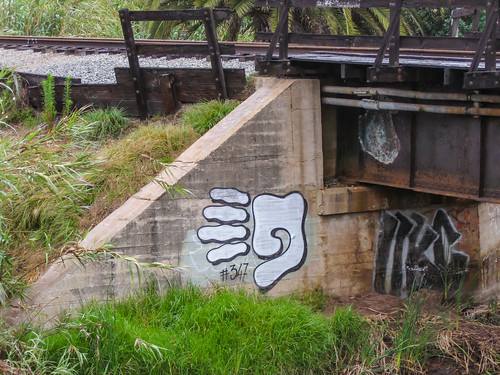bridge: (284, 28, 500, 237)
graffiti: (343, 204, 471, 304), (201, 187, 320, 290)
